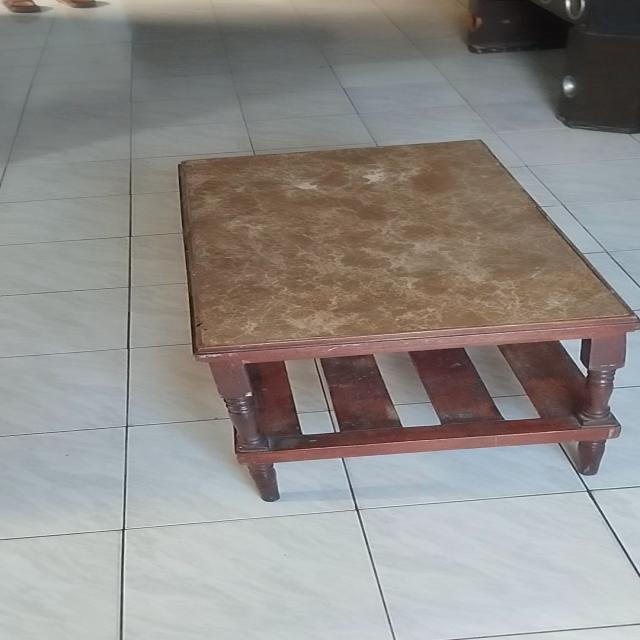table: (174, 133, 626, 492)
